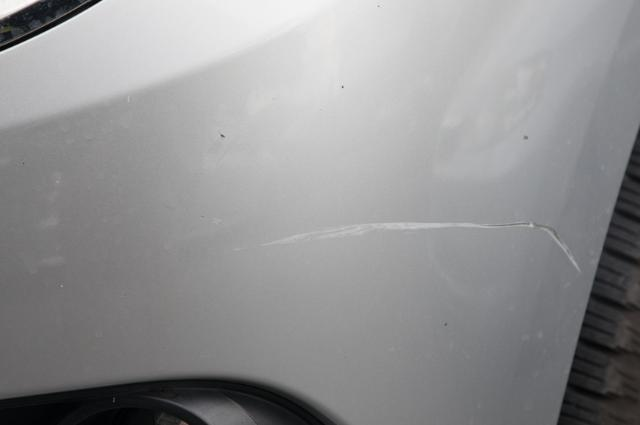Bumper: (115, 69, 640, 373)
